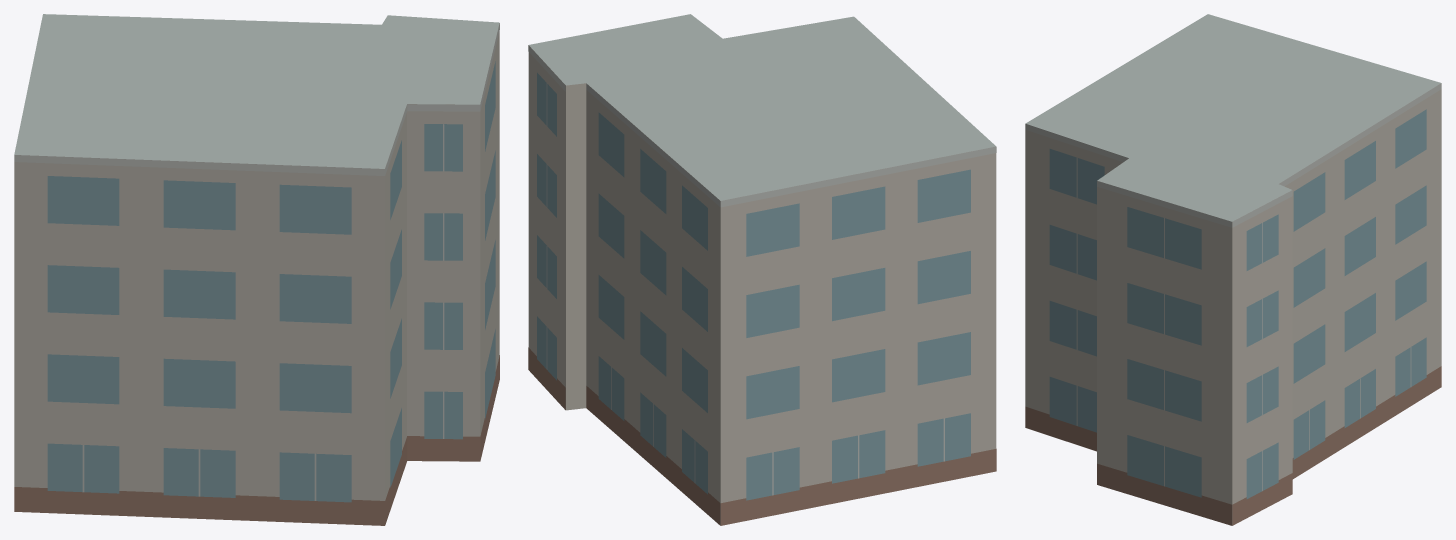
File: survey-upis-32996463.glb
3 views of the same model, side by side, from view 1: azimuth 30°, elevation 25°; view 2: azimuth 150°, elevation 25°; view 3: azimuth 270°, elevation 25° (orthographic). The views are drawn at different scales.
Visible parts, largest first — view 1: survey-upis-32996463.tmp; view 2: survey-upis-32996463.tmp; view 3: survey-upis-32996463.tmp.
Boxes of the visible parts, box(x1,y1,x2,y2) form: survey-upis-32996463.tmp: box(14, 14, 499, 525); survey-upis-32996463.tmp: box(528, 14, 996, 525); survey-upis-32996463.tmp: box(1025, 14, 1441, 525).
Bounding box in the file's own units: 17.89 × 12.2 × 15.14.
